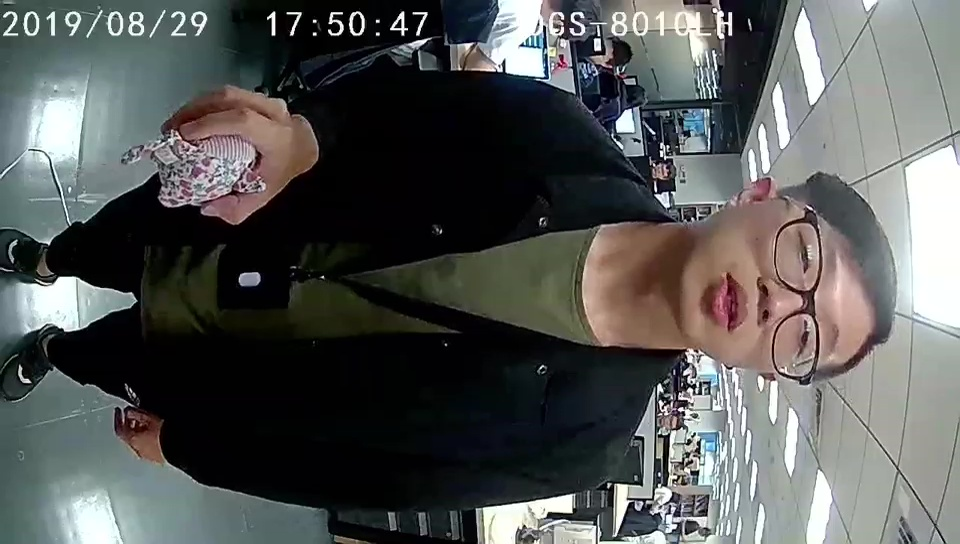pig: (154, 128, 268, 210)
